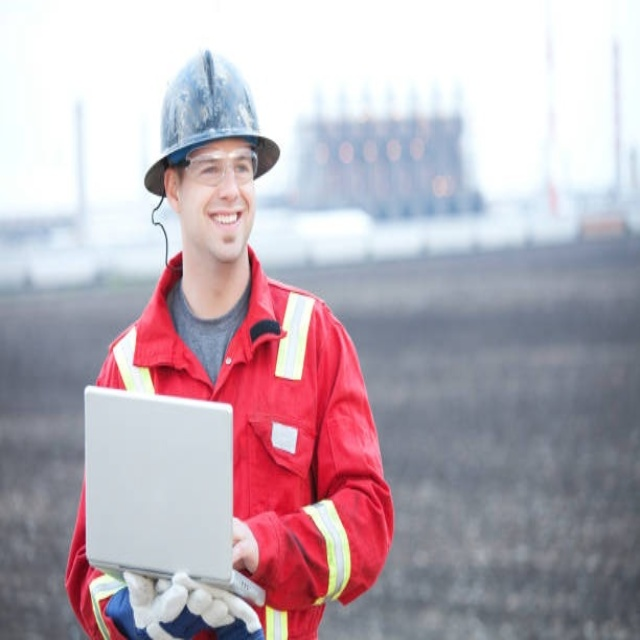Gafas: (177, 150, 260, 186)
Sin_guantes: (230, 515, 260, 577)
Sin_mascara: (204, 199, 248, 246)
